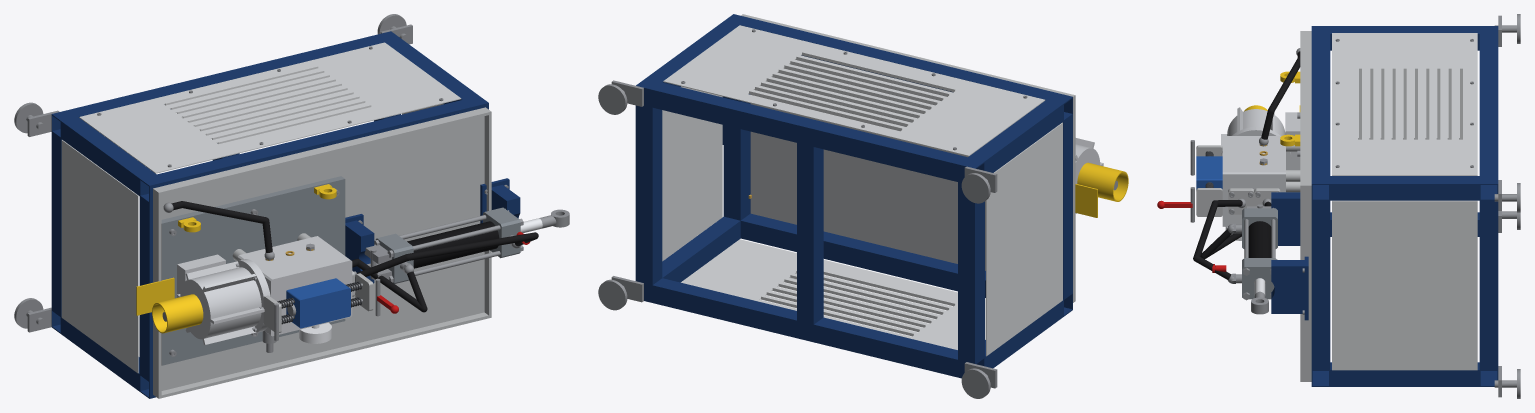
The model's file is hpu-manifold.glb.
3 views of the same model, side by side, from view 1: azimuth 30°, elevation 25°; view 2: azimuth 150°, elevation 25°; view 3: azimuth 270°, elevation 25° (orthographic). The views are drawn at different scales.
Parts seen in each view (by area): view 1: Stainless Drip Tray, Side Panel 2, End Panel 1, Module Adapter Plate, Pump Housing 6061, Top Rail 2, Manifold Block 6061, Skid Rail 2, Corner Post 2, Directional Valve Body, Top Cross Member 1, Skid Cross Member 1 (+19 smaller); view 2: Side Panel 2, Stainless Drip Tray, End Panel 1, Side Panel 1, Skid Rail 2, Skid Rail 1, End Panel 2, Top Rail 1, Skid Cross Member 3, Skid Cross Member 2, Skid Cross Member 1, Top Rail 2 (+13 smaller); view 3: End Panel 2, Side Panel 2, Stainless Drip Tray, Corner Post 1, Manifold Block 6061, Top Rail 2, Skid Rail 2, Top Cross Member 2, Skid Cross Member 3, End Panel 1, Corner Post 4, Cylinder Support 2 (+17 smaller).
Boxes of the visible parts, x1,y1,x2,y2 form: Stainless Drip Tray: (153,107,491,398); Side Panel 2: (79,42,461,173); End Panel 1: (61,140,138,373); Module Adapter Plate: (161,176,345,365); Pump Housing 6061: (177,254,270,345); Top Rail 2: (139,96,488,203); Manifold Block 6061: (237,236,352,336); Skid Rail 2: (51,31,400,138); Corner Post 2: (61,117,156,195); Directional Valve Body: (286,278,350,328); Top Cross Member 1: (139,196,152,380); Skid Cross Member 1: (51,132,61,316); Side Panel 2: (663,25,1045,156); Stainless Drip Tray: (741,14,1075,302); End Panel 1: (986,122,1062,356); Side Panel 1: (681,239,985,349); Skid Rail 2: (636,78,984,182); Skid Rail 1: (644,278,984,378); End Panel 2: (662,86,722,261); Top Rail 1: (740,213,1072,316); Skid Cross Member 3: (635,105,662,285); Skid Cross Member 2: (797,143,823,324); Skid Cross Member 1: (958,182,984,363); Top Rail 2: (724,14,1072,121); End Panel 2: (1332,200,1477,370); Side Panel 2: (1332,33,1477,175); Stainless Drip Tray: (1300,31,1311,381); Corner Post 1: (1330,176,1479,200); Manifold Block 6061: (1222,136,1285,226); Top Rail 2: (1311,26,1330,200); Skid Rail 2: (1479,26,1498,200); Top Cross Member 2: (1311,200,1330,369); Skid Cross Member 3: (1479,200,1498,369); End Panel 1: (1359,69,1462,139); Corner Post 4: (1330,362,1479,386); Cylinder Support 2: (1271,256,1308,320).
Bounding box in the file's own units: 1229 × 630 × 973.
